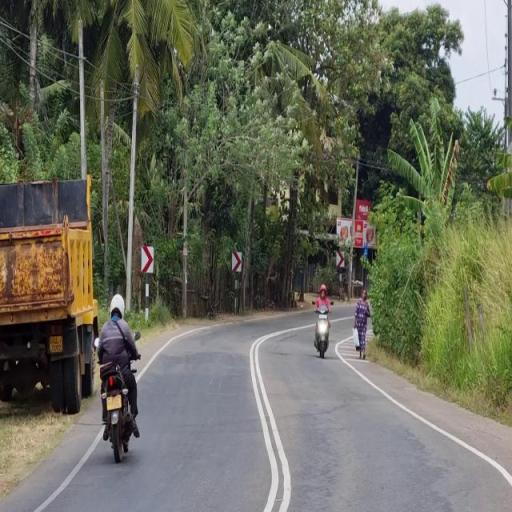double_white_line: (246, 327, 292, 512), (33, 428, 101, 510)
